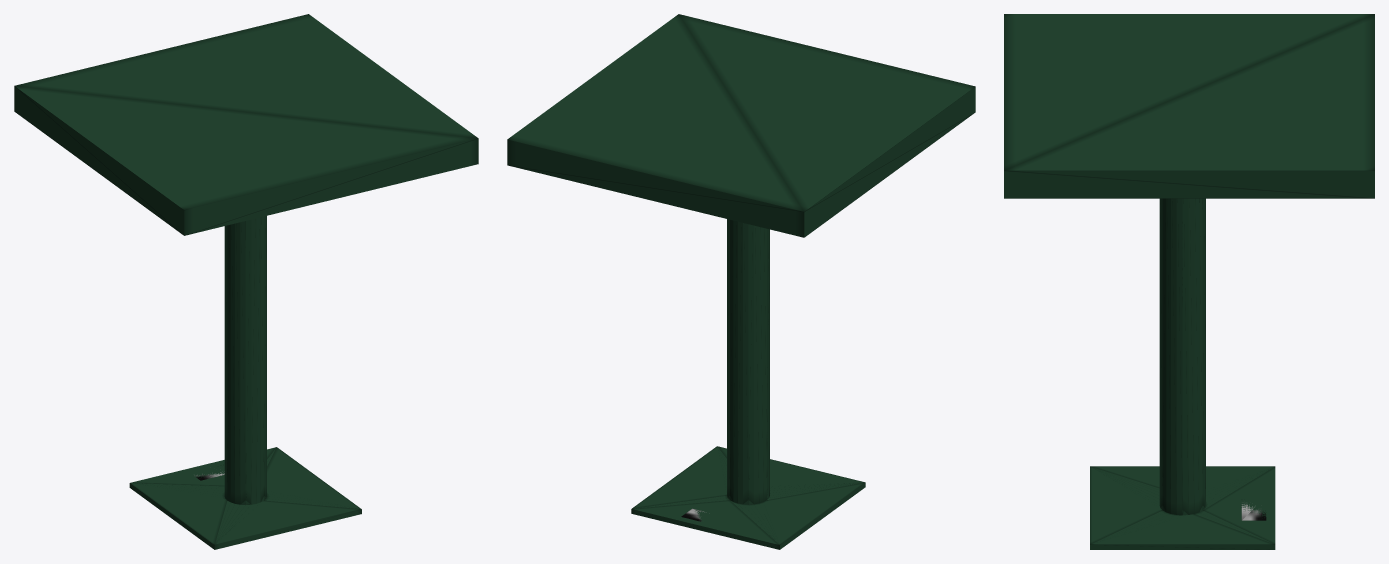
3 views of the same model, side by side, from view 1: azimuth 30°, elevation 25°; view 2: azimuth 150°, elevation 25°; view 3: azimuth 270°, elevation 25° (orthographic). The views are drawn at different scales.
Parts seen in each view (by area): view 1: world; view 2: world; view 3: world.
Boxes of the visible parts, box(x1,y1,x2,y2) form: world: box(14, 14, 478, 549); world: box(507, 14, 975, 549); world: box(1004, 14, 1374, 549).
Bounding box in the file's own units: 1.06 × 1.33 × 1.06.
1 material, 1 textured.
